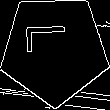L_E: (30, 33, 79, 66)
